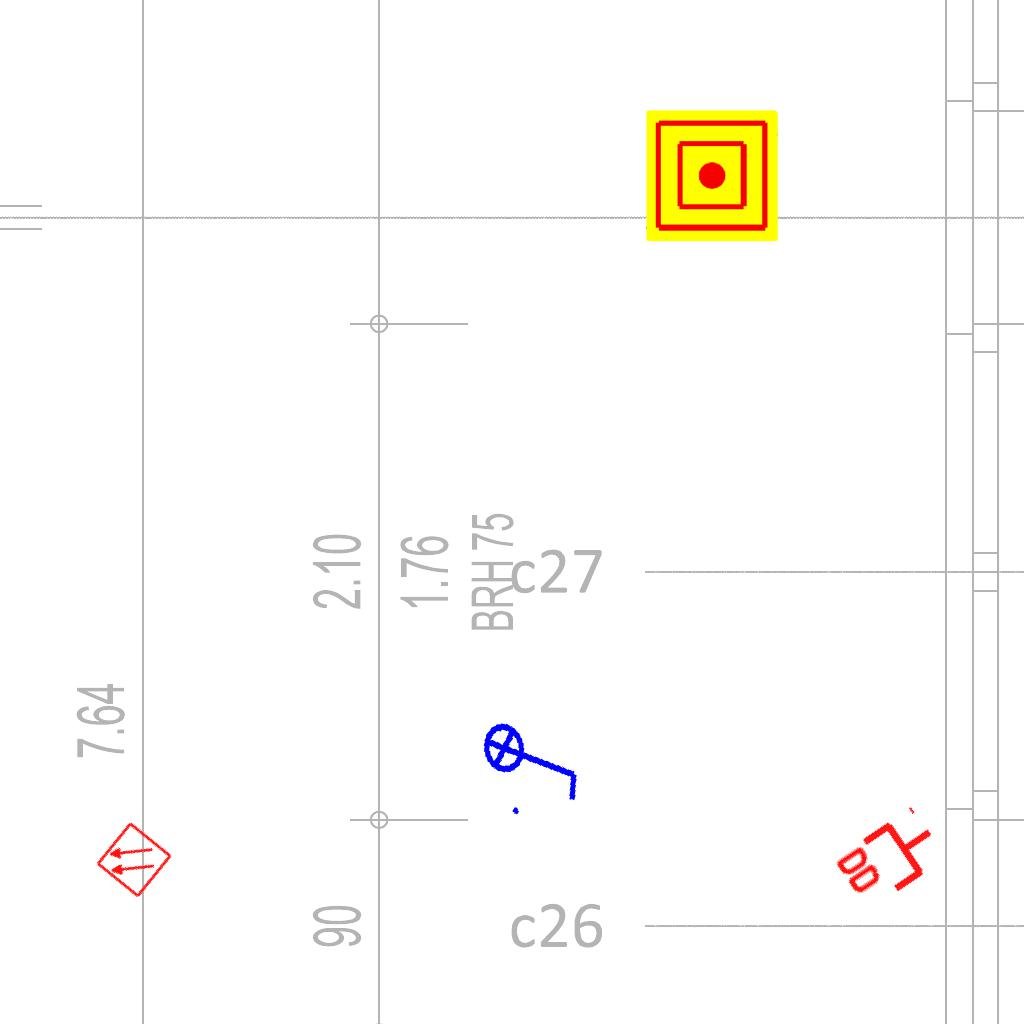Ausschalter_beleuchtet: (475, 695, 591, 825)
Datenanschluss_zweifach: (828, 803, 953, 918)
NAM-Nichtautomatischer_Melder: (646, 110, 778, 242)
RMO_Rauchmelder_optischer: (94, 820, 174, 900)
